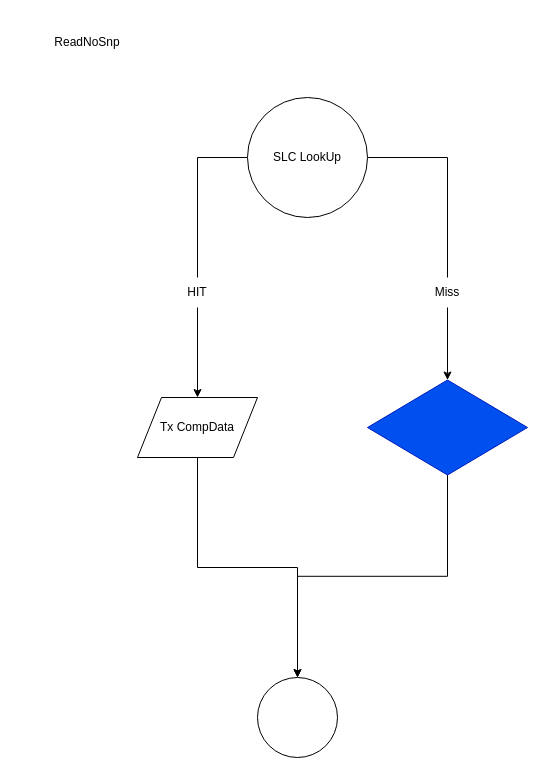
The diagram is 545 pixels wide and 775 high, and some of its shapes have lost their labels. The centre of each missing label's shape, as x and y in pixels:
"EXIT" belongs at point 297,717.
"MC DMT Graph" belongs at point 447,427.
